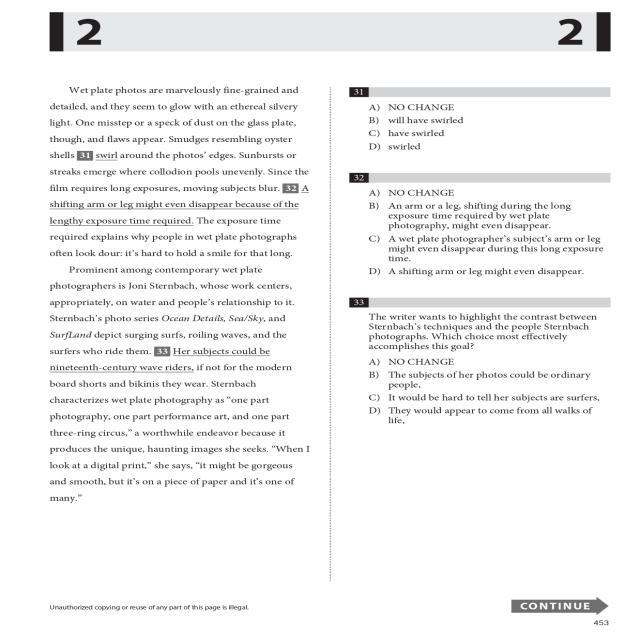Answer_Block: (335, 186, 640, 280), (335, 353, 640, 428), (335, 102, 640, 152)
Instruction: (42, 84, 318, 585)
Question_Answer_Block: (335, 294, 640, 430), (335, 168, 640, 278), (335, 83, 640, 152)
Question_Block: (335, 294, 640, 353), (335, 168, 640, 186), (335, 83, 640, 100)
Question_Paper_Area: (335, 83, 640, 586), (42, 84, 318, 585)
